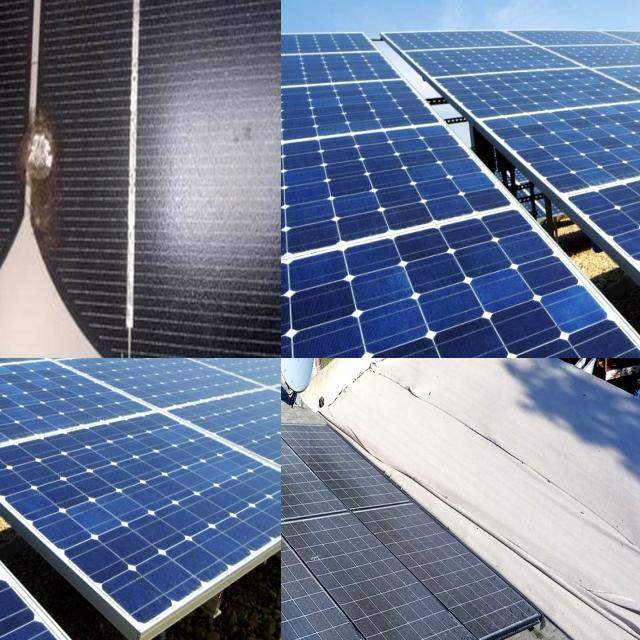crack: (281, 124, 513, 284), (285, 260, 609, 358), (478, 69, 640, 221), (0, 384, 130, 544), (0, 358, 163, 481), (0, 520, 162, 640), (38, 472, 202, 572)
dust: (281, 515, 341, 640), (362, 515, 417, 640), (281, 539, 315, 640)
shadow: (12, 80, 87, 266), (0, 54, 32, 163)
